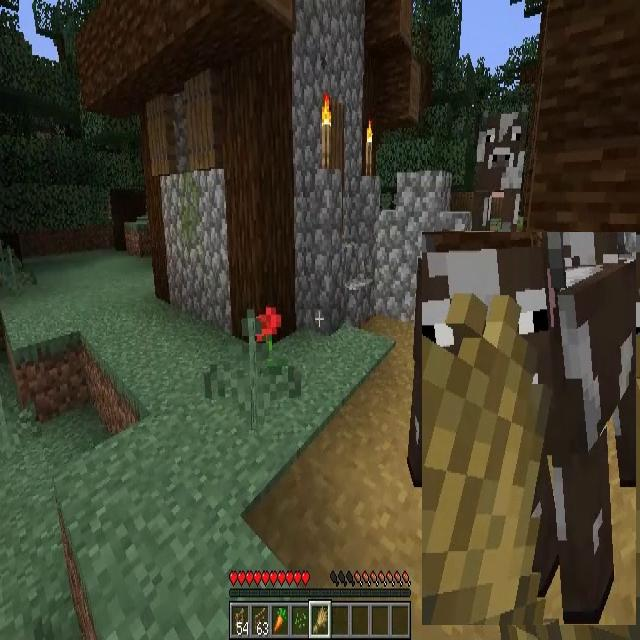cow: (422, 232, 636, 625), (474, 102, 522, 230)
